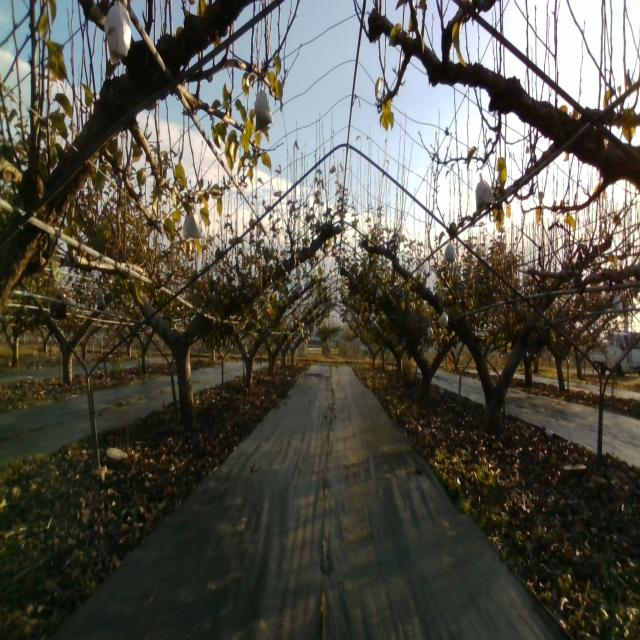pearbags: (105, 0, 131, 68), (254, 91, 273, 131), (182, 208, 202, 242), (475, 173, 494, 208), (443, 237, 455, 265)
